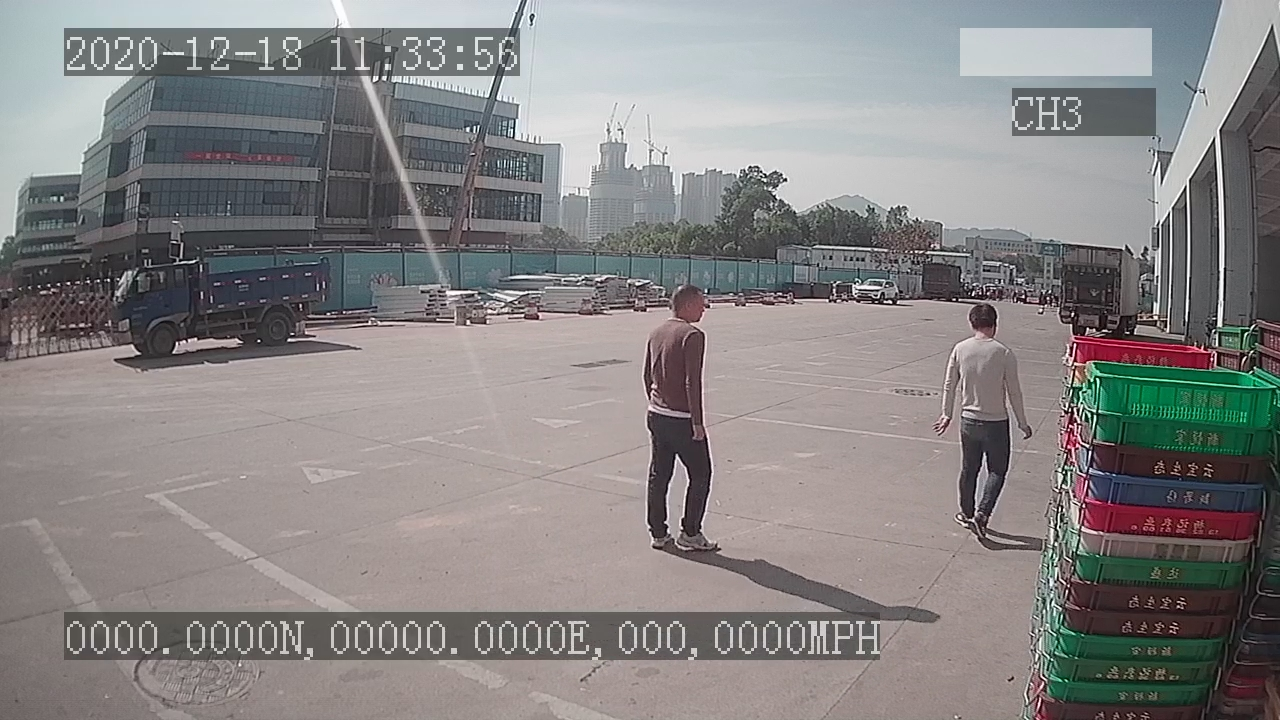person: (930, 301, 1034, 548), (641, 281, 723, 560)
